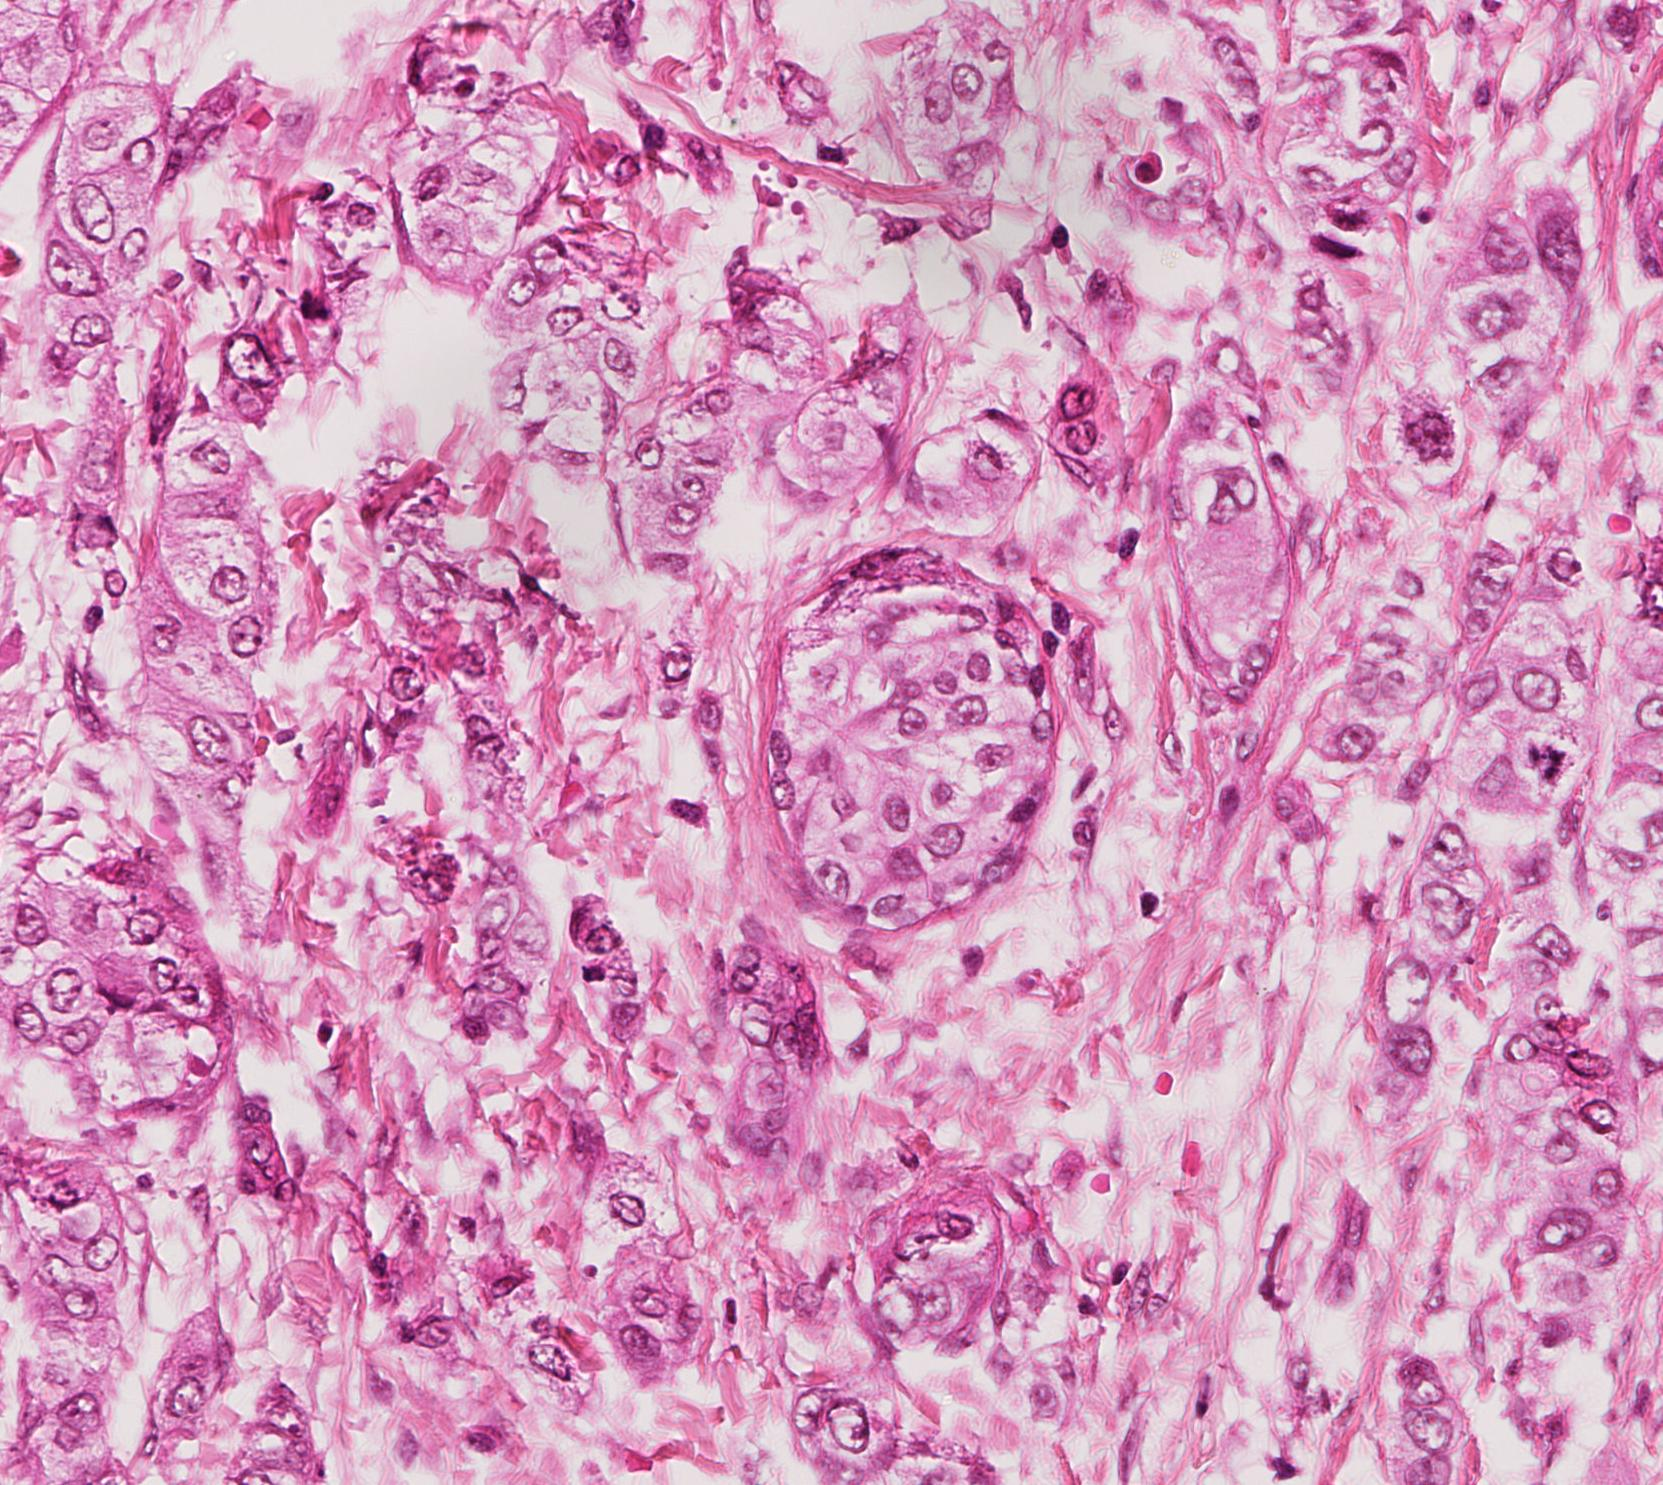mitosis: (1517, 740, 1577, 800)
